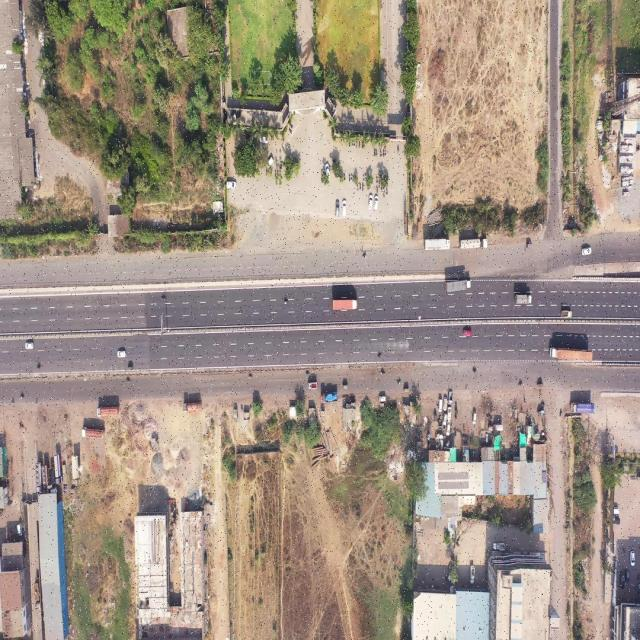3W: (536, 408, 546, 418), (536, 381, 544, 387), (127, 365, 133, 372), (343, 383, 348, 390), (527, 243, 532, 249)
Cars: (628, 550, 637, 566), (258, 134, 269, 146), (225, 181, 237, 190), (334, 200, 340, 218), (620, 573, 626, 591), (462, 328, 473, 337), (342, 198, 347, 217), (266, 156, 273, 169), (582, 247, 592, 256), (325, 163, 331, 178), (368, 194, 373, 210), (117, 349, 127, 357), (24, 342, 34, 350), (374, 195, 379, 210), (473, 411, 478, 426), (443, 395, 447, 411), (448, 407, 452, 422), (438, 400, 442, 414), (378, 395, 385, 403), (443, 414, 447, 427)
LCV: (493, 540, 507, 552), (469, 563, 476, 585), (560, 308, 572, 320), (307, 382, 317, 390)
M2W: (361, 253, 368, 259), (397, 378, 403, 385), (126, 374, 130, 383), (283, 300, 289, 306), (517, 380, 522, 387), (305, 370, 310, 377), (248, 372, 253, 379), (19, 392, 24, 399), (376, 174, 379, 184), (383, 188, 386, 198), (377, 354, 382, 360), (363, 172, 366, 181), (343, 173, 346, 182), (276, 169, 279, 178), (161, 296, 166, 301), (36, 365, 41, 370), (358, 141, 361, 149), (473, 367, 477, 373), (360, 181, 362, 191), (349, 174, 351, 183), (376, 148, 378, 157), (385, 148, 387, 157), (352, 173, 354, 182), (380, 150, 382, 158), (357, 184, 359, 192), (353, 141, 355, 148), (362, 184, 364, 191)
MAV: (546, 347, 594, 364), (459, 238, 488, 250)
Truck: (81, 425, 106, 441), (445, 279, 471, 293), (569, 400, 595, 413), (332, 298, 358, 311), (424, 239, 450, 251), (97, 406, 122, 418), (182, 400, 201, 413), (514, 293, 532, 305), (322, 392, 340, 403)
